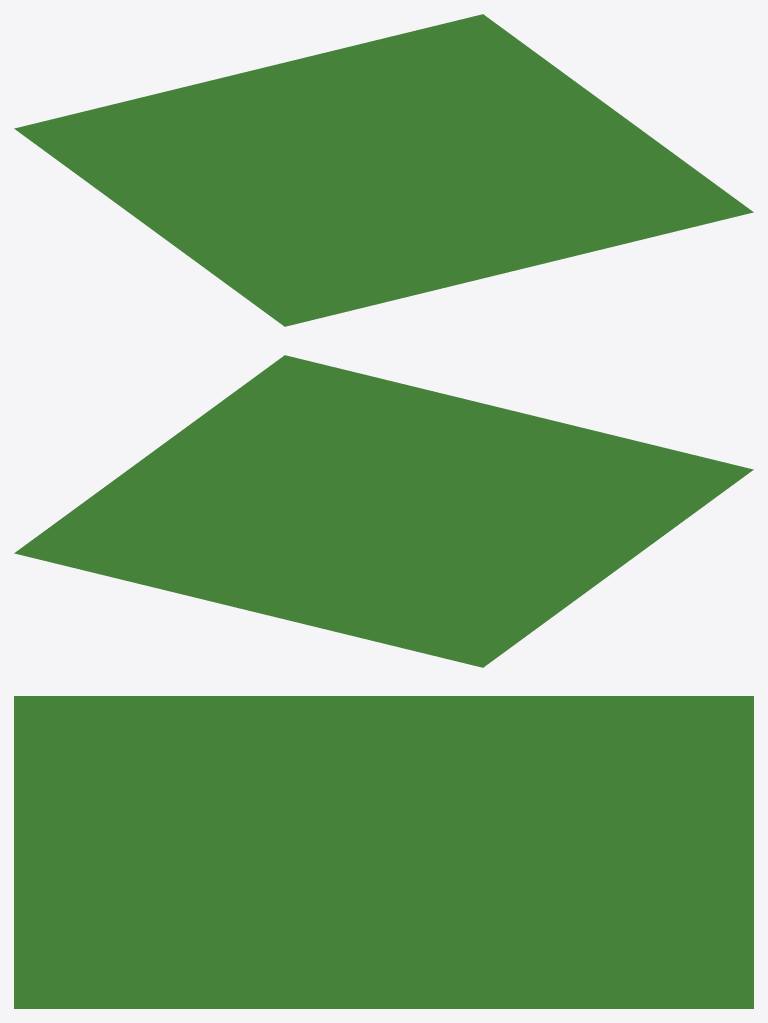
The model's file is Grass.obj.
The picture shows the model from 3 angles, top to bottom: view 1: azimuth 30°, elevation 25°; view 2: azimuth 150°, elevation 25°; view 3: azimuth 270°, elevation 25°; orthographic projection. The views are drawn at different scales.
Visible parts, largest first — view 1: Plane.006; view 2: Plane.006; view 3: Plane.006.
Boxes of the visible parts, bbox=[...] form: Plane.006: bbox=[14, 14, 753, 326]; Plane.006: bbox=[14, 355, 753, 667]; Plane.006: bbox=[14, 696, 753, 1008].
Size of the model in its own units: 20 by 0 by 20.
